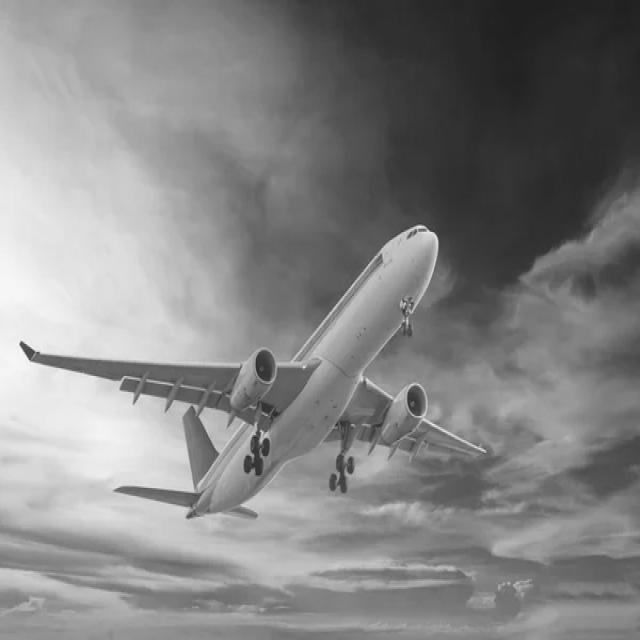Aircraft: (20, 206, 492, 526)
